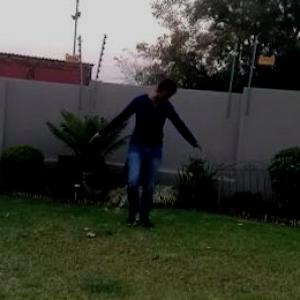land: (94, 68, 214, 244)
